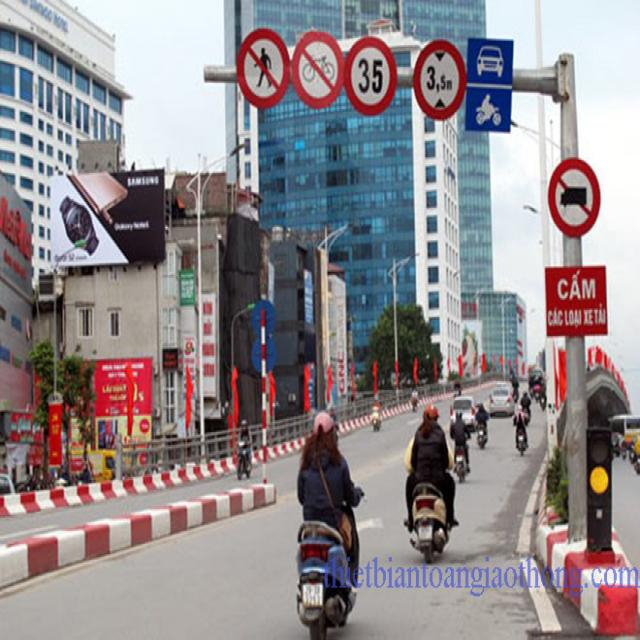bien_cam: (290, 28, 344, 111), (238, 25, 289, 107), (346, 36, 395, 117), (414, 42, 464, 120)
bien_chi_dan: (465, 35, 513, 131), (549, 159, 602, 236)
